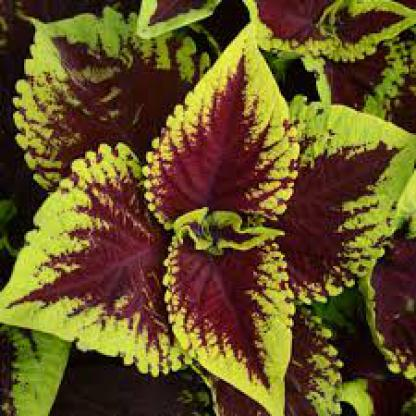Bunga Coleus: (29, 25, 410, 406)
